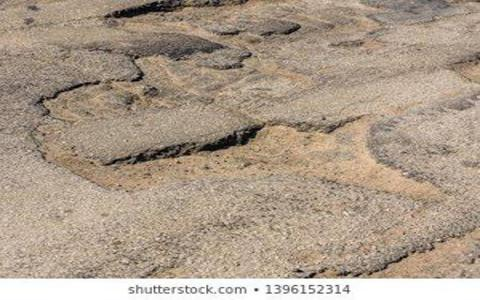patchy roads: (4, 1, 214, 217), (220, 87, 462, 246)
